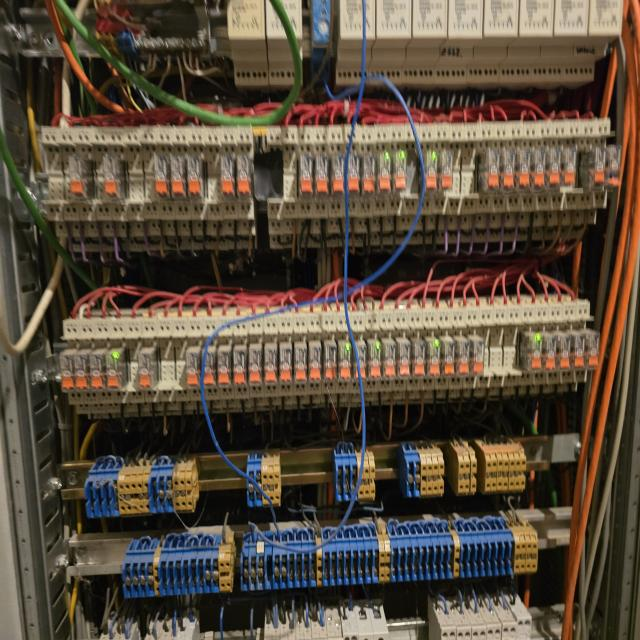Dimmer: (562, 0, 624, 83), (530, 1, 589, 83), (499, 0, 555, 82), (466, 0, 520, 83), (434, 0, 484, 84), (401, 0, 448, 85), (368, 0, 412, 86), (227, 0, 267, 87), (336, 0, 376, 85), (267, 0, 302, 87), (311, 0, 330, 40)
Relais: (68, 157, 90, 199), (102, 156, 122, 200), (170, 154, 187, 198), (153, 154, 169, 200), (377, 151, 392, 198), (188, 154, 203, 200), (524, 332, 541, 372), (314, 154, 330, 196), (237, 156, 252, 198), (106, 351, 121, 393), (607, 145, 621, 189), (394, 150, 407, 197), (138, 353, 154, 391), (221, 156, 235, 199), (502, 150, 516, 193), (590, 147, 604, 190), (347, 152, 360, 198), (298, 154, 312, 196), (424, 150, 438, 192), (517, 150, 531, 192), (548, 147, 562, 189), (89, 352, 104, 391), (74, 352, 88, 392), (586, 330, 600, 370), (486, 151, 499, 194), (60, 353, 74, 392), (186, 351, 200, 390), (279, 347, 293, 386), (543, 332, 557, 371), (563, 148, 576, 189), (202, 351, 216, 389), (442, 340, 456, 378), (332, 154, 344, 198), (440, 151, 453, 191), (264, 348, 278, 385), (363, 154, 375, 196), (217, 352, 231, 388), (368, 345, 382, 381), (383, 343, 396, 381), (339, 345, 352, 382), (250, 348, 262, 388), (309, 344, 322, 380), (413, 342, 426, 378), (428, 342, 441, 378), (573, 331, 585, 370), (534, 150, 546, 188), (457, 340, 470, 375), (234, 351, 246, 388), (354, 344, 366, 381), (398, 342, 410, 378), (472, 341, 484, 376), (560, 333, 571, 371), (295, 346, 306, 382), (325, 346, 336, 382)
Sicherungen_230V: (490, 600, 518, 640), (506, 600, 533, 640), (446, 600, 472, 640), (461, 601, 487, 640), (429, 603, 456, 640), (476, 601, 501, 640), (339, 606, 359, 640), (358, 605, 372, 640), (373, 605, 387, 640)
Verbinder: (241, 515, 538, 590), (119, 532, 237, 601), (82, 461, 198, 519), (478, 440, 526, 492), (399, 443, 444, 498), (332, 448, 376, 502), (245, 452, 281, 509), (449, 441, 476, 495)
